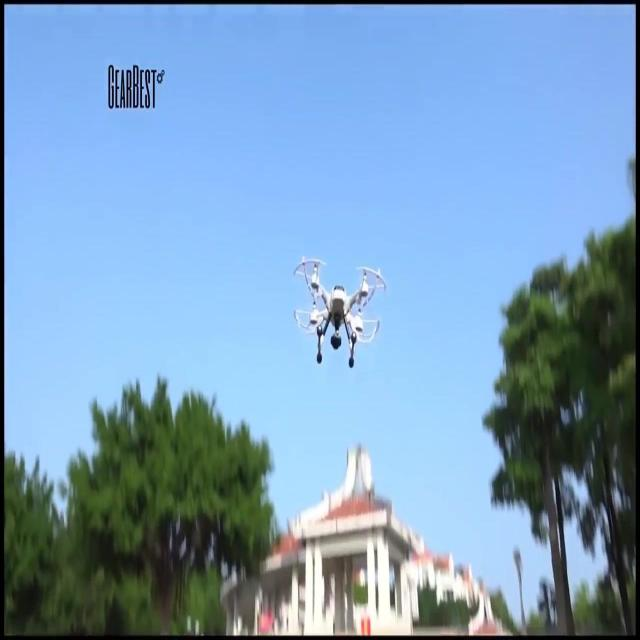drone: (291, 255, 385, 370)
